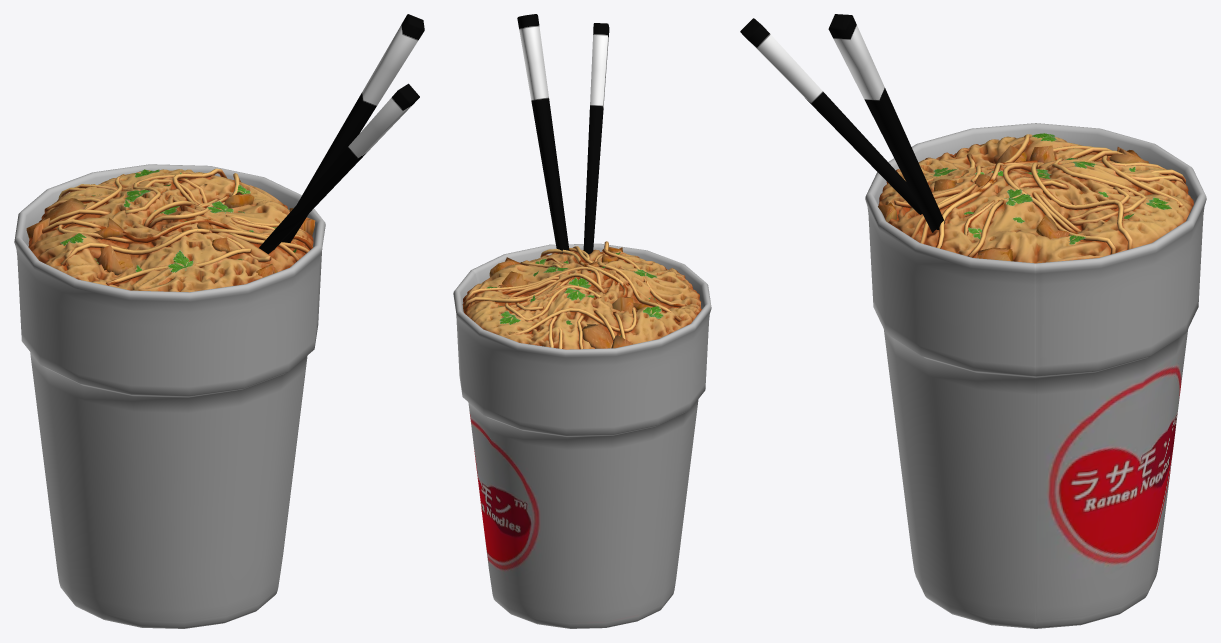
Rendered from ramen_noodles-transformed.glb.
The picture shows the model from 3 angles, left to right: view 1: azimuth 30°, elevation 25°; view 2: azimuth 150°, elevation 25°; view 3: azimuth 270°, elevation 25°; orthographic projection. The views are drawn at different scales.
Visible parts, largest first — view 1: Object_2; view 2: Object_2; view 3: Object_2.
Boxes of the visible parts, <box> form: Object_2: <box>14,14,424,628</box>; Object_2: <box>453,14,711,628</box>; Object_2: <box>740,14,1206,628</box>.
Size of the model in its own units: 2.83 by 5.34 by 3.49.
1 material, 1 textured.
